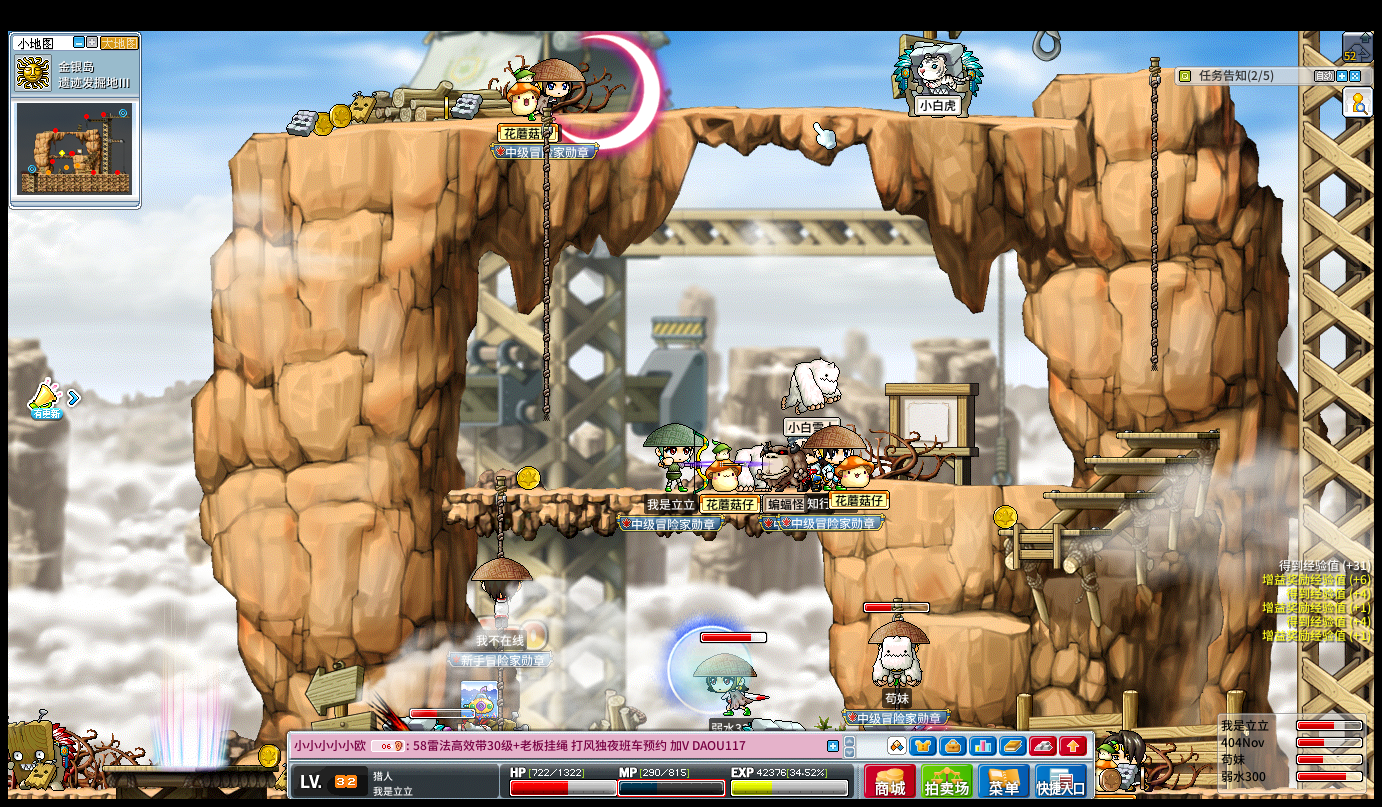floor: (243, 102, 1083, 136), (450, 486, 814, 498), (914, 611, 1029, 633), (1055, 64, 1174, 77), (917, 481, 1078, 490), (993, 526, 1112, 536), (1080, 454, 1198, 464), (1115, 429, 1220, 439), (1042, 490, 1154, 499)
monster: (5, 714, 77, 790)
rope: (1146, 258, 1158, 370), (492, 477, 505, 558)
